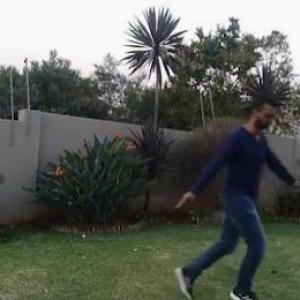land: (151, 77, 299, 299)
